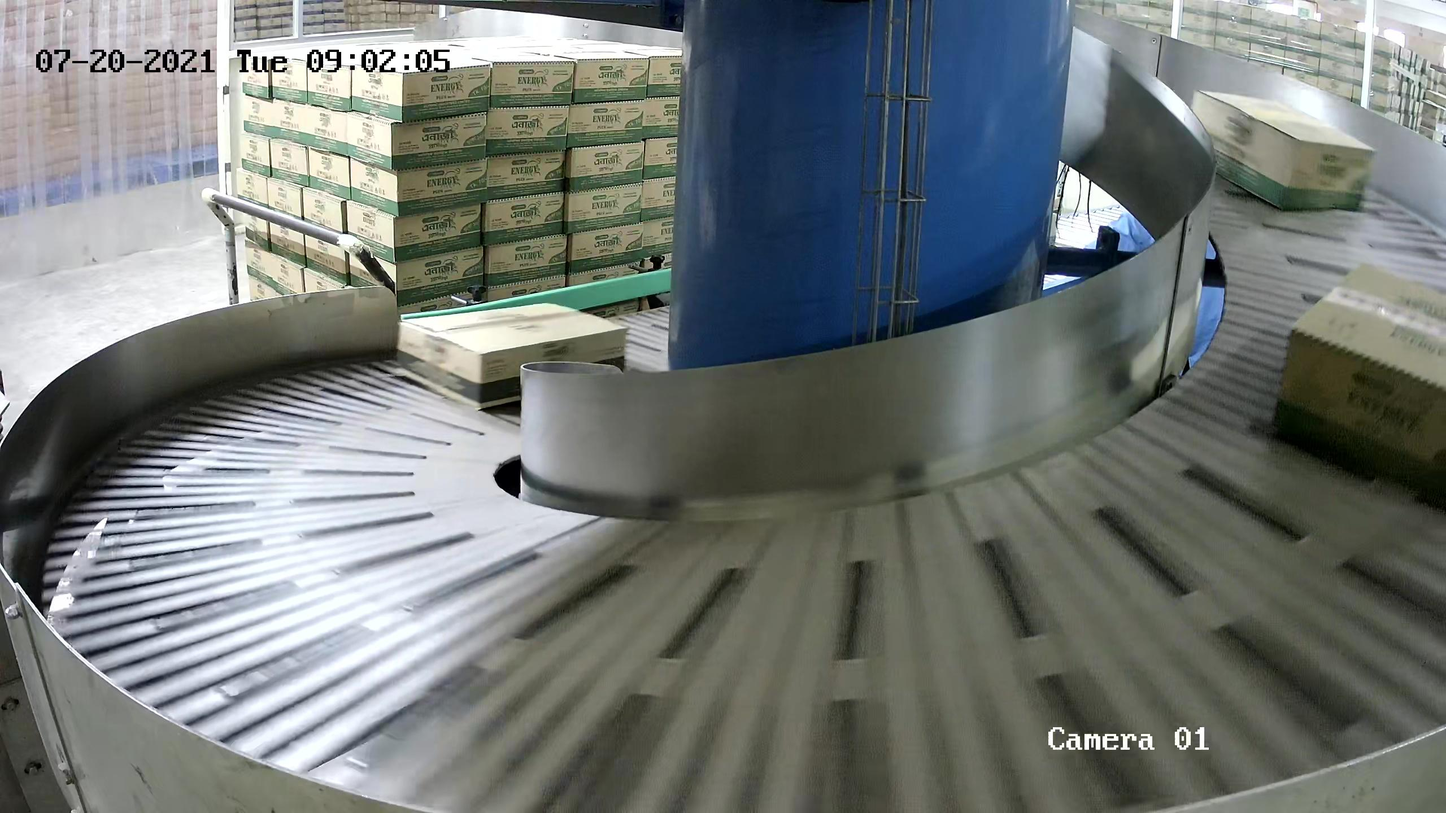Box: (1267, 257, 1446, 518), (395, 300, 630, 412), (1181, 86, 1376, 210)
